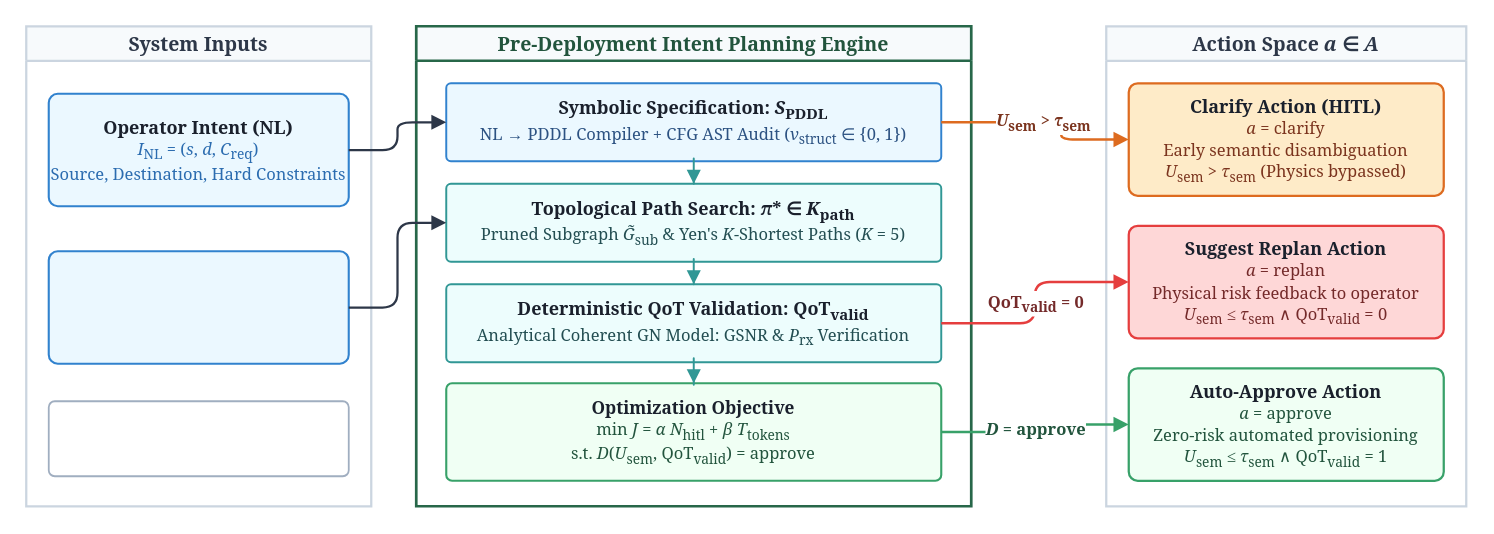
This 1494x534 diagram has some shape labels left out. The shapes that lost their labels are listed below. From the top down, each one's centre as x and y in pixels, then its label:
[198,306]: Optical Network State G ( V , E ), P , GSNR th Physical Links, Spans, Amplifiers
[198,438]: Resource Limits T prompt ≤ T max , t exec ≤ t budget
